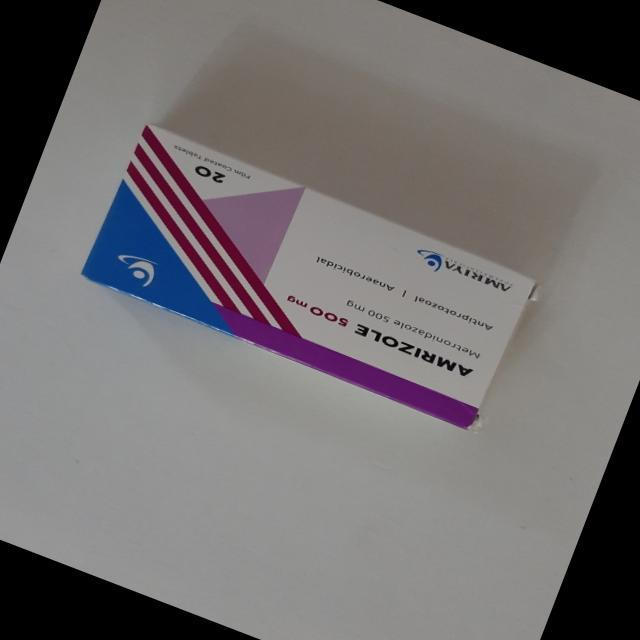Medicine Name: (343, 315, 486, 386)
